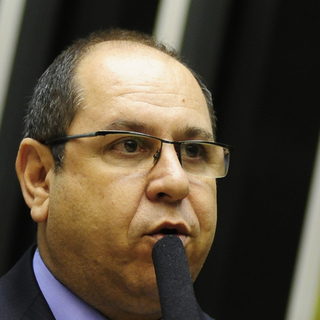eye: (102, 132, 148, 158), (178, 138, 211, 164)
